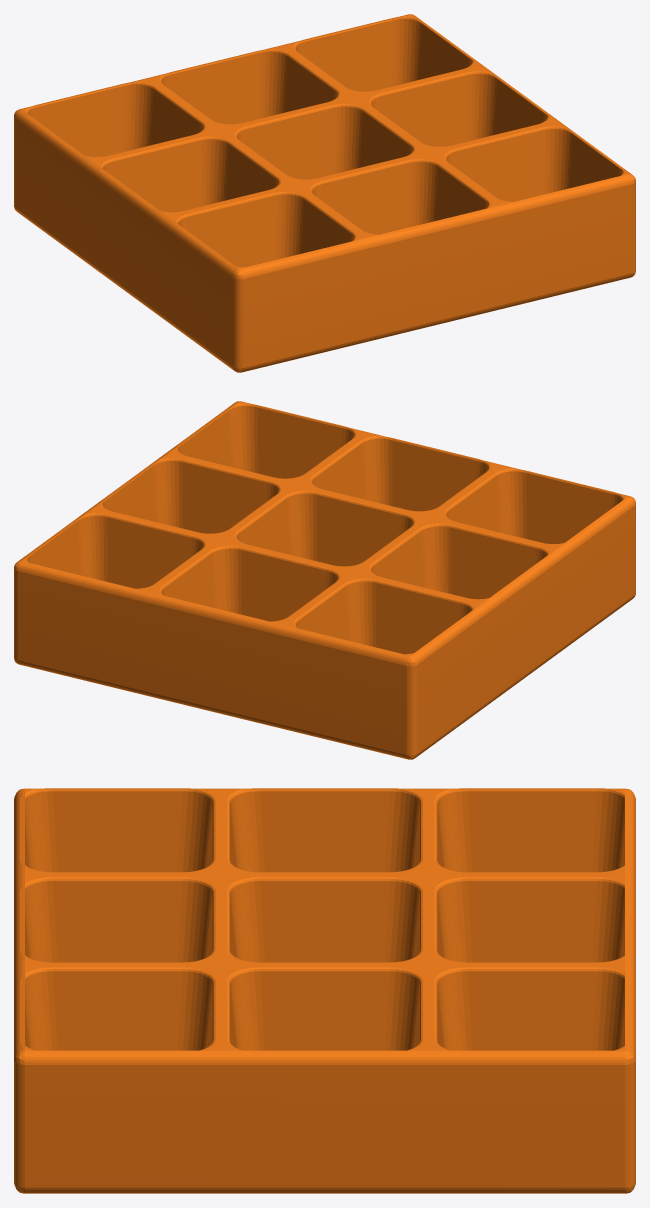
Rendered from fridge_contents__orange_nine_cube_tray.glb.
3 renders of one model, top to bottom at view 1: azimuth 30°, elevation 25°; view 2: azimuth 150°, elevation 25°; view 3: azimuth 270°, elevation 25°, orthographic. The views are drawn at different scales.
Visible parts, largest first — view 1: molded tray with rounded wells; view 2: molded tray with rounded wells; view 3: molded tray with rounded wells.
Part boxes in pixels (<box>): molded tray with rounded wells: <box>14,14,635,372</box>; molded tray with rounded wells: <box>14,401,635,759</box>; molded tray with rounded wells: <box>14,788,635,1193</box>.
Bounding box in the file's own units: 0.175 × 0.043 × 0.17.
